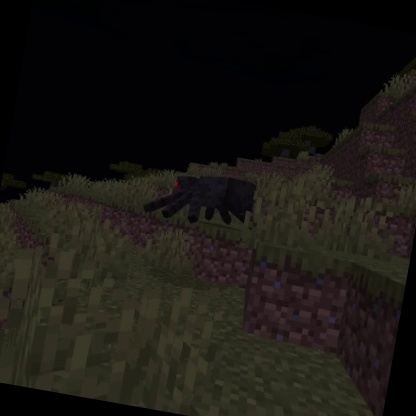spider: (138, 160, 262, 238)
